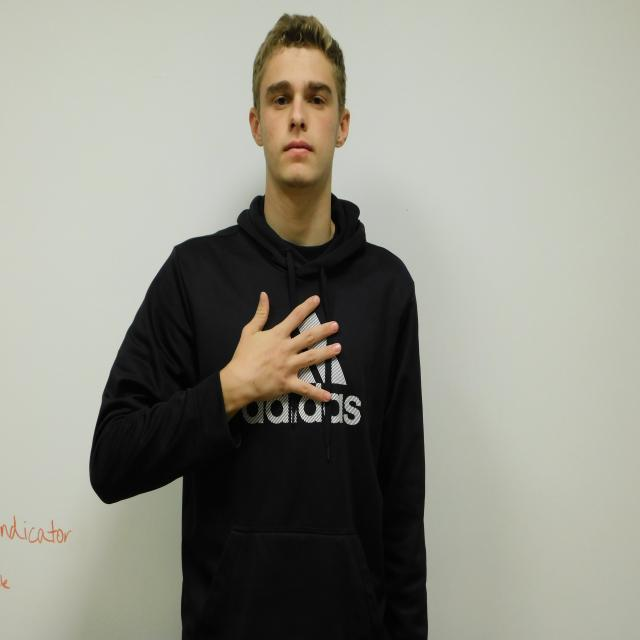like: (235, 292, 342, 402)
